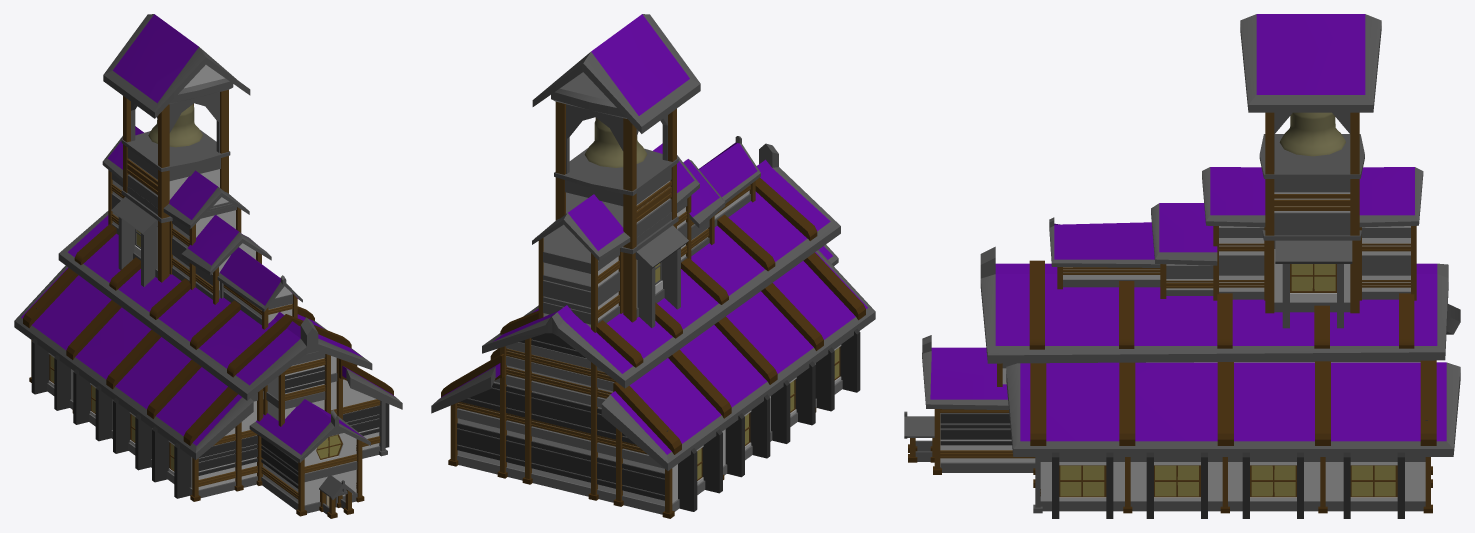
Rendered from Mesh_Royal_Church.fbx.
3 views of the same model, side by side, from view 1: azimuth 30°, elevation 25°; view 2: azimuth 150°, elevation 25°; view 3: azimuth 270°, elevation 25° (orthographic). The views are drawn at different scales.
Parts seen in each view (by area): view 1: Royal_Church; view 2: Royal_Church; view 3: Royal_Church.
Part boxes in pixels (left/top/right/bottom): Royal_Church: left=14, top=14, right=402, bottom=518; Royal_Church: left=431, top=14, right=875, bottom=518; Royal_Church: left=904, top=14, right=1460, bottom=518.
Size of the model in its own units: 2568 by 4220 by 4810.
